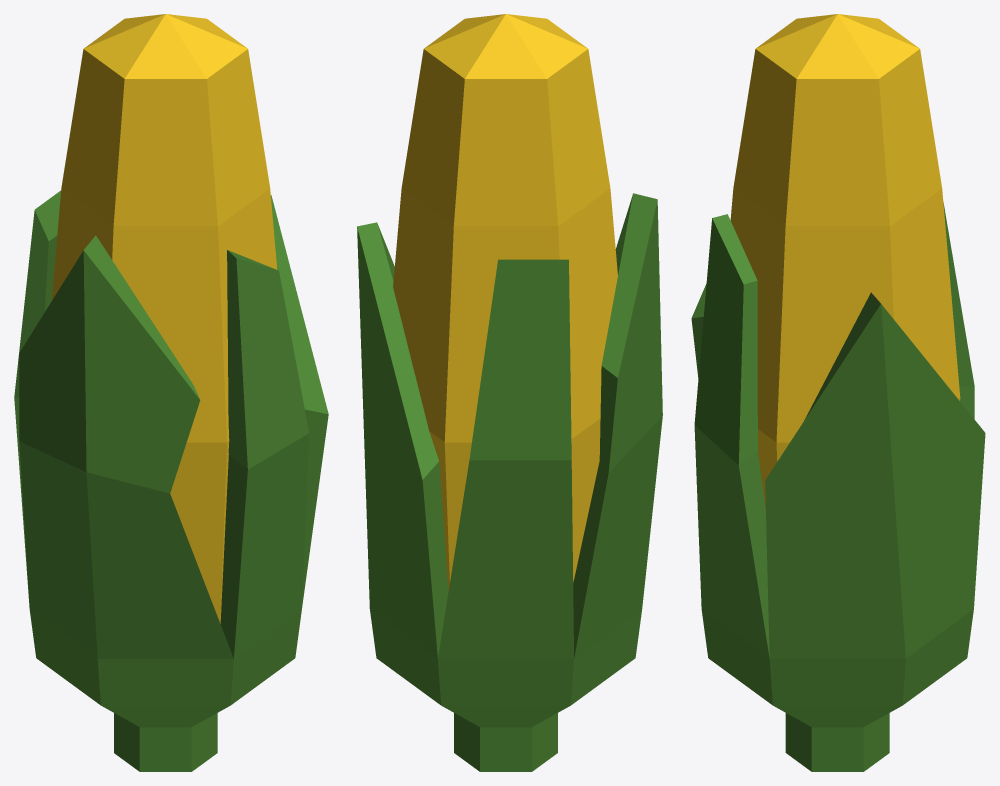
The model's file is corn.glb.
3 renders of one model, left to right at view 1: azimuth 30°, elevation 25°; view 2: azimuth 150°, elevation 25°; view 3: azimuth 270°, elevation 25°, orthographic.
Visible parts, largest first — view 1: corn; view 2: corn; view 3: corn.
Boxes of the visible parts, x1,y1,x2,y2 form: corn: (14, 14, 328, 771); corn: (357, 14, 662, 771); corn: (691, 14, 985, 771).
Bounding box in the file's own units: 0.1239 × 0.3472 × 0.1231.
Materials: 1 (1 with a texture image).
